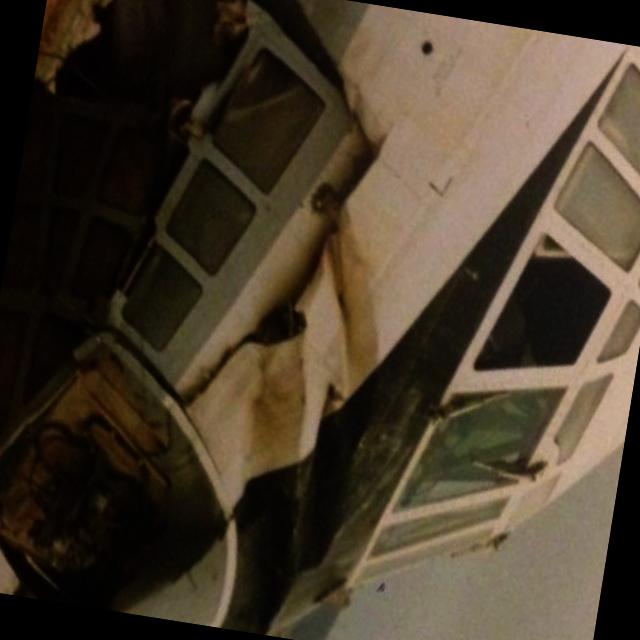dent: (232, 326, 318, 481)
